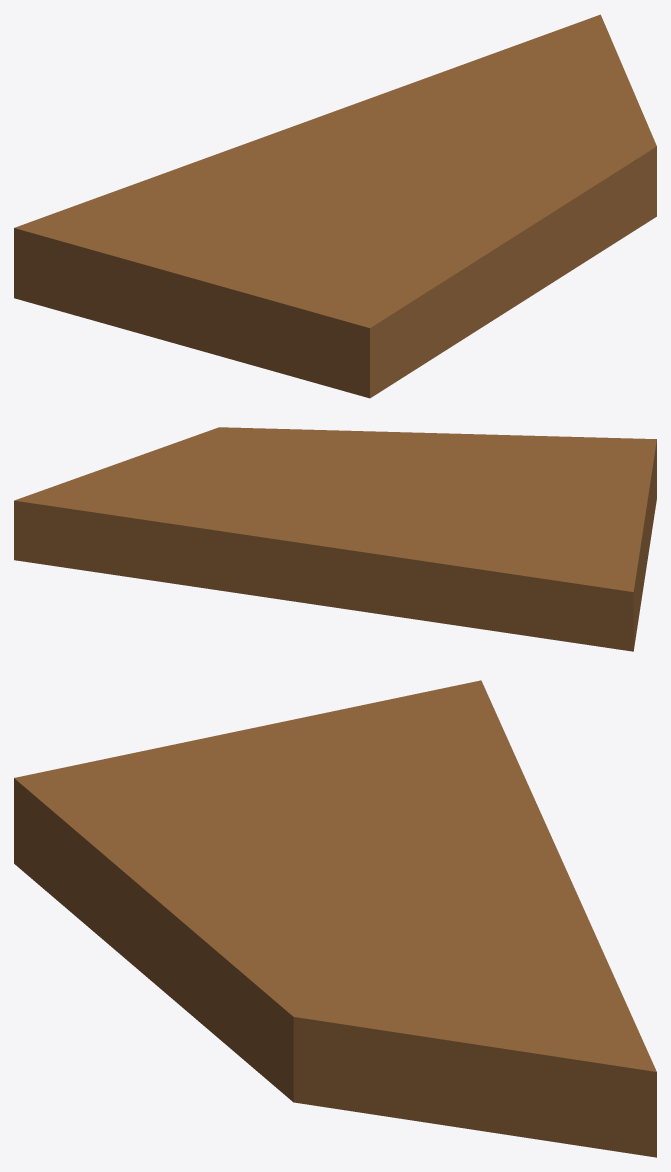
Rendered from x_proval_00_255_1_rmstrd.fbx.
3 views of the same model, one above another, from view 1: azimuth 30°, elevation 25°; view 2: azimuth 150°, elevation 25°; view 3: azimuth 270°, elevation 25° (orthographic). The views are drawn at different scales.
Parts seen in each view (by area): view 1: x_proval_00_255_1_rmstrd1; view 2: x_proval_00_255_1_rmstrd1; view 3: x_proval_00_255_1_rmstrd1.
Part boxes in pixels (x1,y1,x2,y2): x_proval_00_255_1_rmstrd1: [14, 14, 656, 398]; x_proval_00_255_1_rmstrd1: [14, 427, 656, 651]; x_proval_00_255_1_rmstrd1: [14, 680, 656, 1157].
Bounding box in the file's own units: 1.96 × 0.2 × 1.36.
